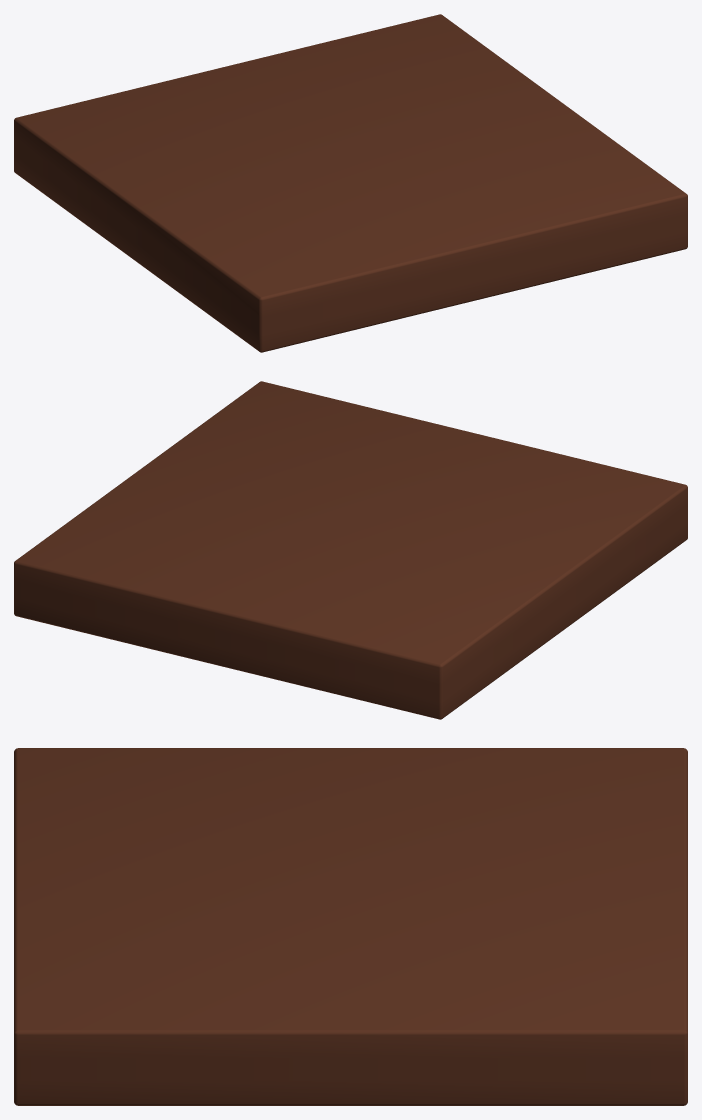
The model's file is chess_field.fbx.
The picture shows the model from 3 angles, top to bottom: view 1: azimuth 30°, elevation 25°; view 2: azimuth 150°, elevation 25°; view 3: azimuth 270°, elevation 25°; orthographic projection. The views are drawn at different scales.
Parts seen in each view (by area): view 1: chess_field; view 2: chess_field; view 3: chess_field.
Part boxes in pixels (<box>): chess_field: <box>14,14,687,352</box>; chess_field: <box>14,381,687,719</box>; chess_field: <box>14,748,687,1105</box>.
Bounding box in the file's own units: 605 × 76.25 × 605.
